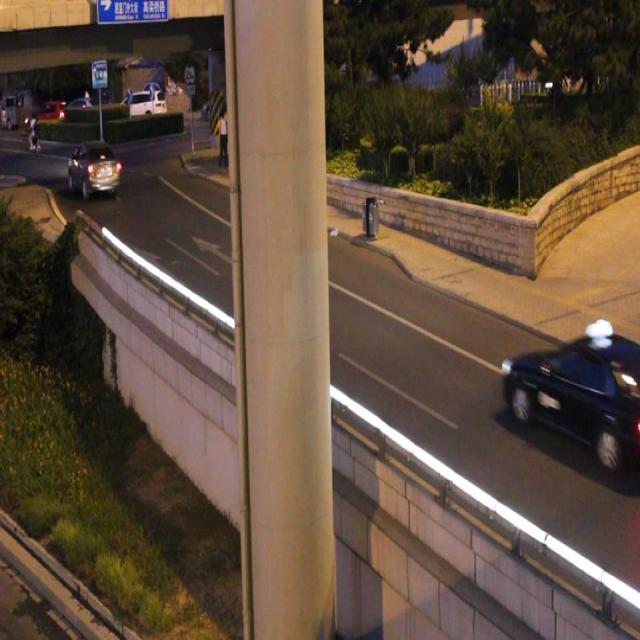car: (507, 336, 640, 463), (70, 144, 119, 196)
